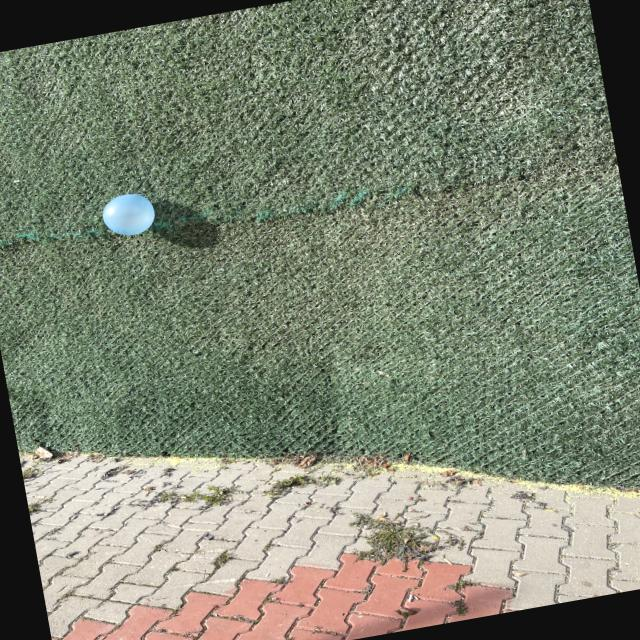balloon: (102, 193, 154, 235)
